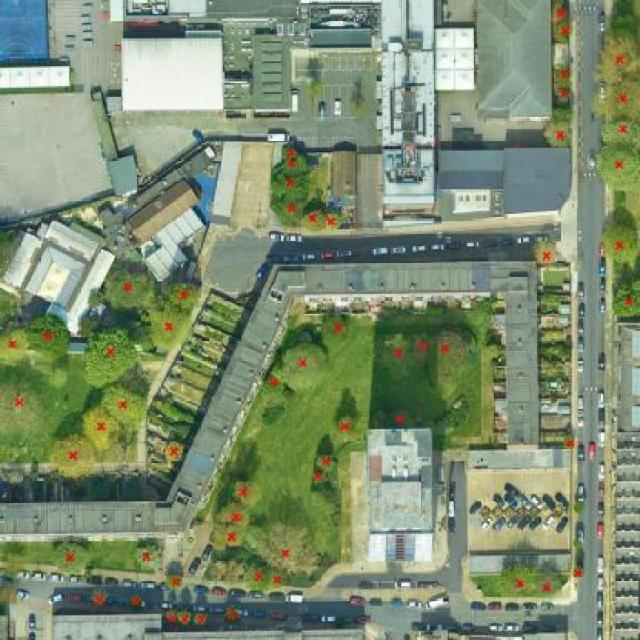tree: (249, 520, 320, 577), (85, 328, 141, 389), (426, 331, 468, 394), (594, 31, 640, 82), (279, 343, 327, 391), (1, 375, 41, 430), (105, 268, 157, 309), (51, 433, 94, 479), (591, 79, 640, 119), (103, 385, 146, 430), (598, 146, 640, 189), (25, 317, 69, 358), (151, 306, 192, 345), (85, 404, 119, 451), (602, 226, 639, 263), (600, 117, 640, 151), (382, 334, 413, 377), (497, 565, 537, 597), (612, 278, 640, 317), (53, 543, 90, 571), (270, 195, 302, 227), (0, 329, 28, 365), (273, 173, 310, 199), (212, 523, 246, 549), (231, 479, 262, 506), (216, 503, 252, 526), (323, 311, 348, 344), (170, 282, 201, 308), (545, 119, 571, 147), (536, 570, 561, 598), (336, 417, 365, 441), (271, 157, 309, 175), (244, 563, 268, 591), (261, 376, 285, 402), (410, 333, 430, 361), (136, 547, 159, 568), (535, 242, 556, 265), (301, 211, 325, 231), (391, 410, 411, 430), (315, 453, 336, 472), (555, 21, 573, 41), (555, 65, 572, 85), (87, 288, 104, 307), (556, 85, 572, 104), (167, 442, 182, 462), (552, 109, 573, 123), (92, 588, 106, 608), (311, 469, 326, 486), (325, 213, 340, 230), (269, 573, 283, 590), (281, 145, 299, 158), (167, 574, 182, 589), (178, 610, 192, 625), (129, 593, 142, 609), (555, 6, 569, 20), (191, 614, 207, 626), (562, 436, 575, 450), (226, 605, 237, 621), (574, 499, 585, 513), (165, 610, 177, 622), (572, 566, 583, 579), (573, 541, 582, 548)
